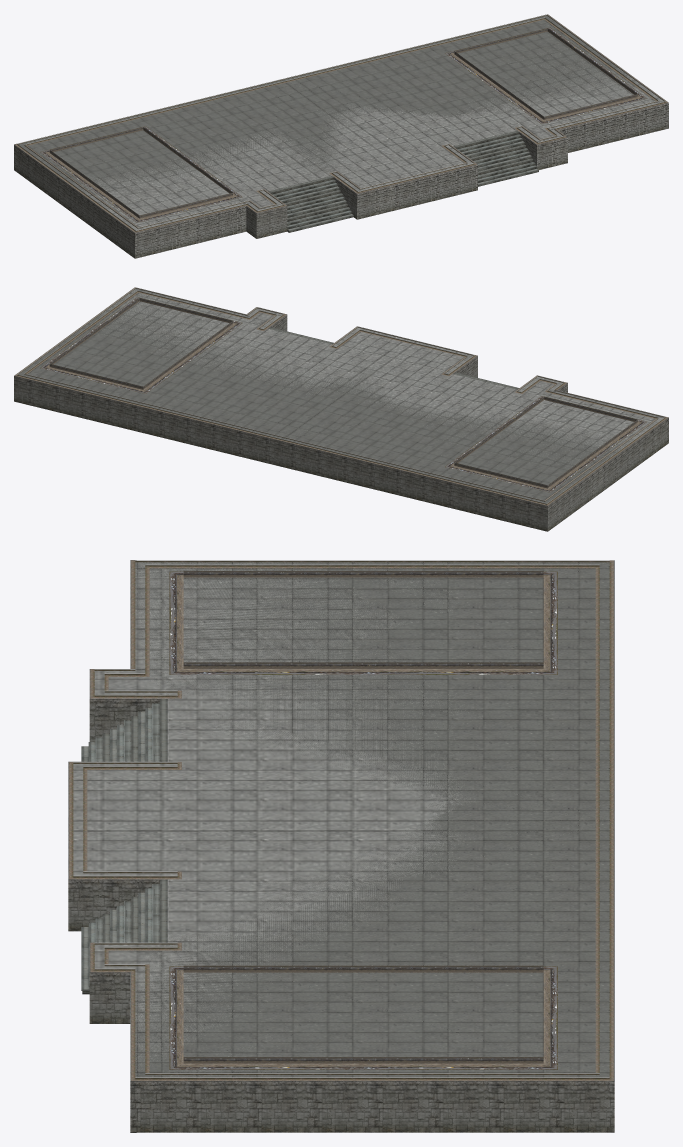
The model's file is exhibit_plaza_platform.FBX.
3 renders of one model, top to bottom at view 1: azimuth 30°, elevation 25°; view 2: azimuth 150°, elevation 25°; view 3: azimuth 270°, elevation 25°, orthographic. The views are drawn at different scales.
Parts seen in each view (by area): view 1: exhibit_plaza_platform, LOD_ibit_plaza_platform; view 2: exhibit_plaza_platform, LOD_ibit_plaza_platform; view 3: exhibit_plaza_platform, LOD_ibit_plaza_platform.
Boxes of the visible parts, bbox=[...] form: exhibit_plaza_platform: bbox=[14, 14, 667, 253]; LOD_ibit_plaza_platform: bbox=[21, 50, 668, 258]; exhibit_plaza_platform: bbox=[14, 287, 668, 531]; LOD_ibit_plaza_platform: bbox=[87, 288, 668, 531]; exhibit_plaza_platform: bbox=[68, 560, 614, 1132]; LOD_ibit_plaza_platform: bbox=[68, 560, 481, 1132].
Size of the model in its own units: 304 by 135 by 15.86.
